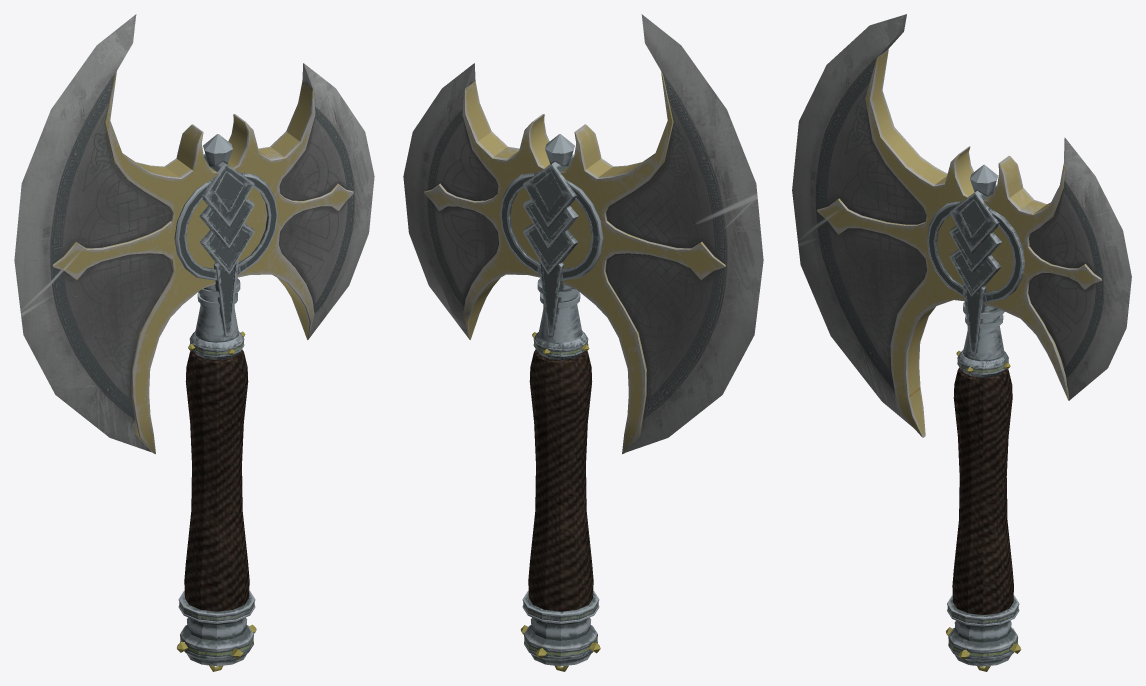
The picture shows the model from 3 angles, left to right: view 1: azimuth 30°, elevation 25°; view 2: azimuth 150°, elevation 25°; view 3: azimuth 330°, elevation 25°; orthographic projection. The views are drawn at different scales.
Parts seen in each view (by area): view 1: blade_low, bladeornamrnt_low, handlegrip_low, bottomEncription_low, topringEncription_low, topdesign2_low, metalmiddle_low, topdesign4_low, topdesign3_low, topdesign5_low, middleEncription_low, topdesign1_low; view 2: blade_low, bladeornamrnt_low, handlegrip_low, bottomEncription_low, topringEncription_low, topdesign2_low, metalmiddle_low, topdesign4_low, topdesign3_low, topdesign5_low, middleEncription_low, topdesign1_low; view 3: blade_low, bladeornamrnt_low, handlegrip_low, bottomEncription_low, topringEncription_low, topdesign2_low, metalmiddle_low, topdesign4_low, topdesign3_low, topdesign5_low, middleEncription_low, topdesign1_low.
Part boxes in pixels (x1,y1,x2,y2): blade_low: (14,14,374,452); bladeornamrnt_low: (52,71,353,454); handlegrip_low: (184,349,249,611); bottomEncription_low: (178,591,255,666); topringEncription_low: (174,172,277,280); topdesign2_low: (201,153,254,227); metalmiddle_low: (195,284,238,342); topdesign4_low: (200,223,254,274); topdesign3_low: (199,198,254,249); topdesign5_low: (213,261,238,336); middleEncription_low: (189,331,244,359); topdesign1_low: (203,134,232,166); blade_low: (403,14,763,452); bladeornamrnt_low: (424,71,725,454); handlegrip_low: (528,349,593,611); bottomEncription_low: (522,591,599,666); topringEncription_low: (499,172,603,280); topdesign2_low: (523,154,576,227); metalmiddle_low: (538,284,582,342); topdesign4_low: (523,224,578,274); topdesign3_low: (523,198,578,249); topdesign5_low: (539,261,564,336); middleEncription_low: (533,330,588,360); topdesign1_low: (545,134,574,166); blade_low: (792,14,1131,427); bladeornamrnt_low: (817,49,1101,437); handlegrip_low: (952,367,1013,614); bottomEncription_low: (947,595,1019,666); topringEncription_low: (926,201,1024,303); topdesign2_low: (949,184,999,252); metalmiddle_low: (963,305,1004,361); topdesign4_low: (949,249,1001,296); topdesign3_low: (949,225,1001,273); topdesign5_low: (962,283,986,355); middleEncription_low: (957,349,1008,377); topdesign1_low: (970,164,997,196).
Bounding box in the file's own units: 1.11 × 2 × 0.2478.
Materials: 1 (1 with a texture image).
